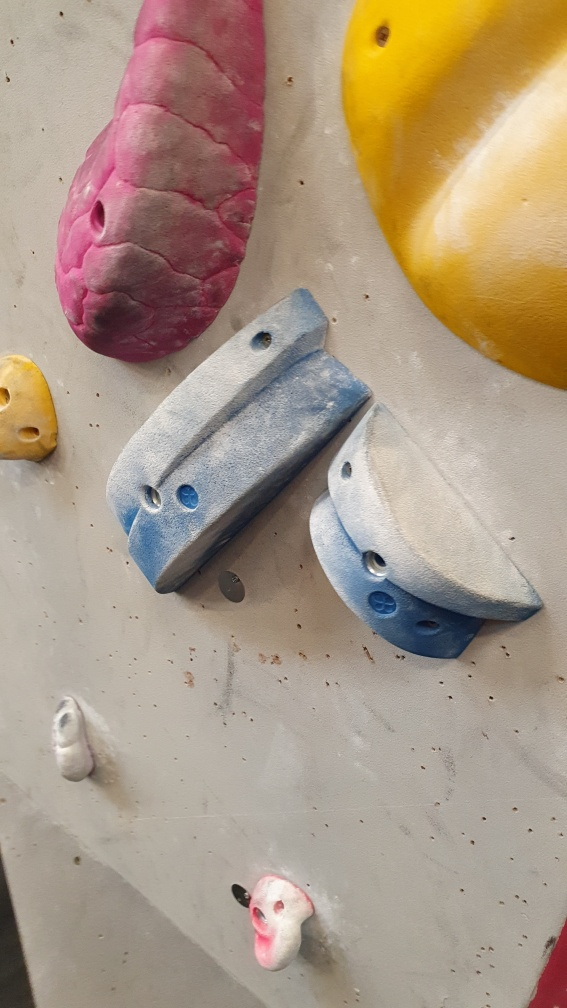Hand Start: (218, 565, 251, 607), (228, 877, 258, 913)
Pinch: (110, 291, 382, 600), (307, 410, 544, 667)
